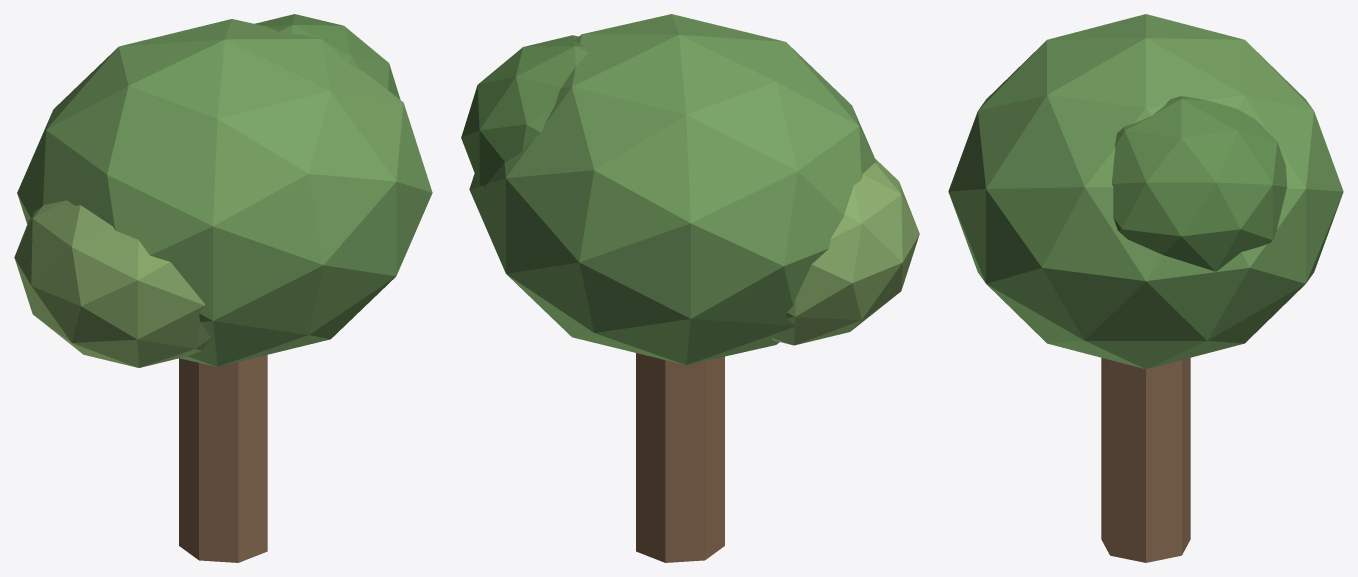
Rendered from tree_oak_round.glb.
3 renders of one model, left to right at view 1: azimuth 30°, elevation 25°; view 2: azimuth 150°, elevation 25°; view 3: azimuth 270°, elevation 25°, orthographic.
Parts seen in each view (by area): view 1: part_01, part_02, part_00, part_03; view 2: part_01, part_00, part_02, part_03; view 3: part_01, part_03, part_00.
Part boxes in pixels (left/top/right/bottom): part_01: left=17, top=19, right=432, bottom=366; part_02: left=14, top=200, right=210, bottom=367; part_00: left=179, top=355, right=267, bottom=562; part_03: left=254, top=14, right=400, bottom=99; part_01: left=469, top=14, right=876, bottom=365; part_00: left=636, top=353, right=724, bottom=562; part_02: left=772, top=158, right=919, bottom=345; part_03: left=461, top=35, right=588, bottom=189; part_01: left=948, top=14, right=1343, bottom=369; part_03: left=1111, top=96, right=1287, bottom=271; part_00: left=1101, top=358, right=1190, bottom=562.
Bounding box in the file's own units: 0.64 × 0.79 × 0.56.
